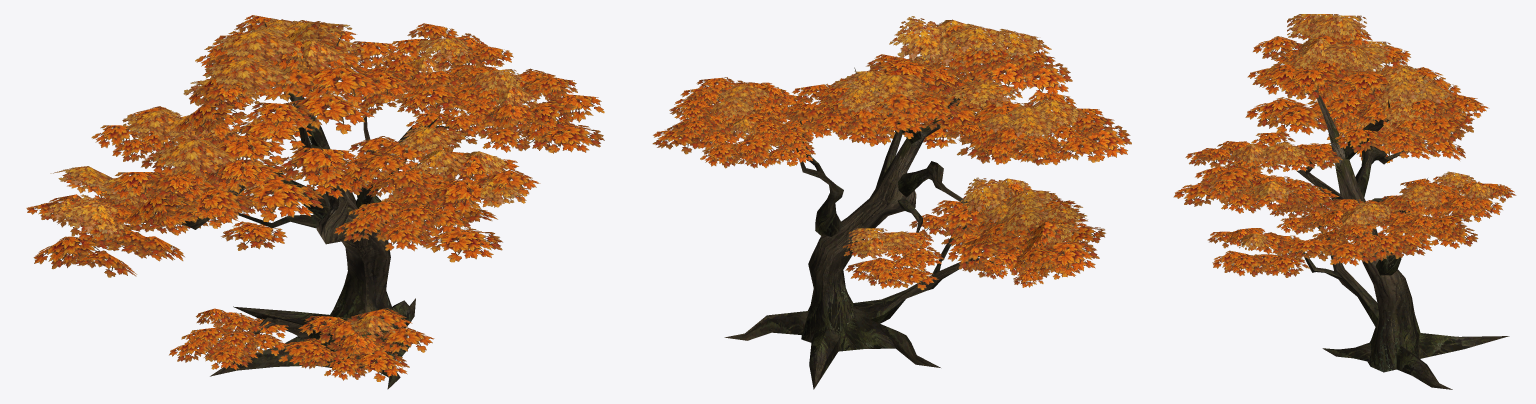
Rendered from 7003_Item_shu_1.FBX.
3 renders of one model, left to right at view 1: azimuth 30°, elevation 25°; view 2: azimuth 150°, elevation 25°; view 3: azimuth 270°, elevation 25°, orthographic. The views are drawn at different scales.
Visible parts, largest first — view 1: 7003_Item_shu_1; view 2: 7003_Item_shu_1; view 3: 7003_Item_shu_1.
Part boxes in pixels (box(x1,y1,x2,y2)): 7003_Item_shu_1: box(26, 15, 604, 389); 7003_Item_shu_1: box(652, 16, 1131, 389); 7003_Item_shu_1: box(1173, 14, 1516, 389).
Bounding box in the file's own units: 1054 × 777 × 696.
